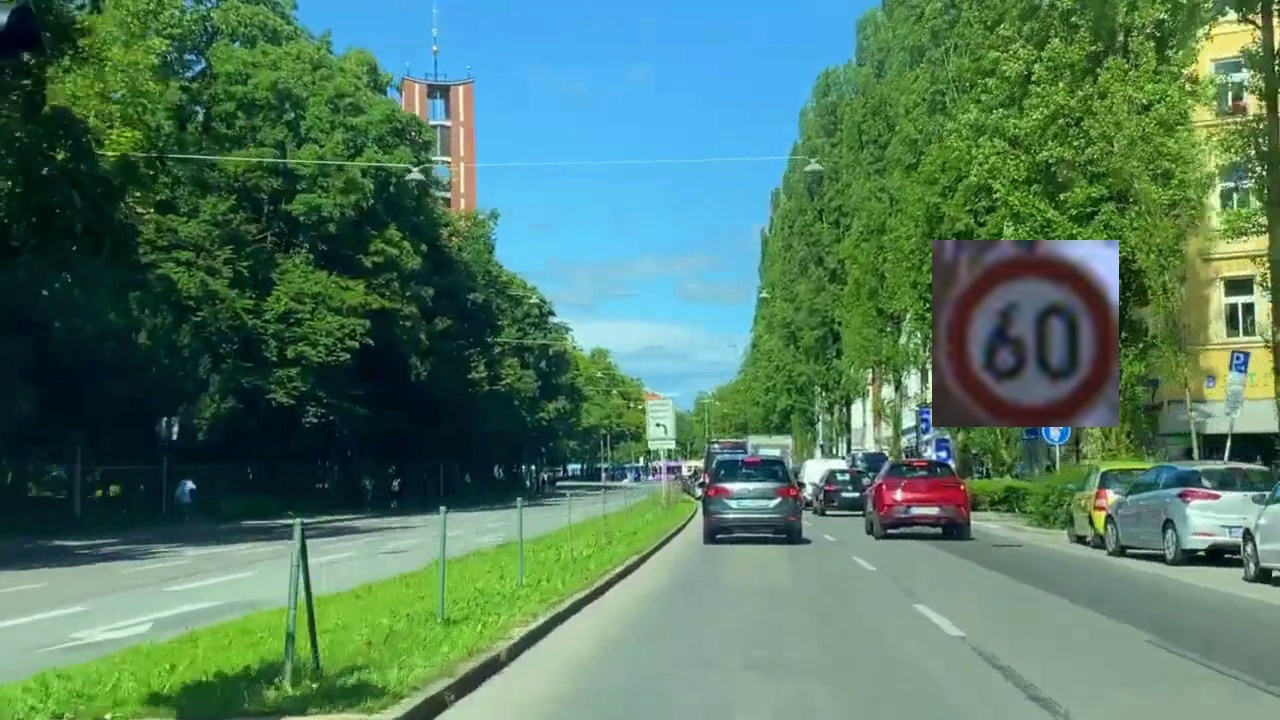Speed 60: (932, 240, 1119, 427)
